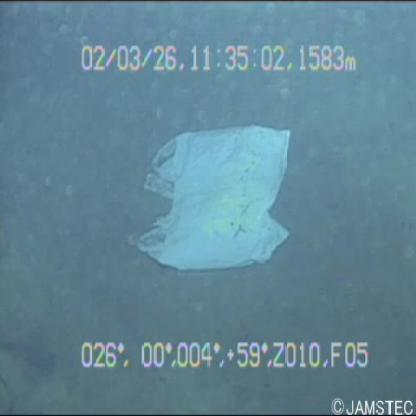Rác: (124, 113, 307, 276)
